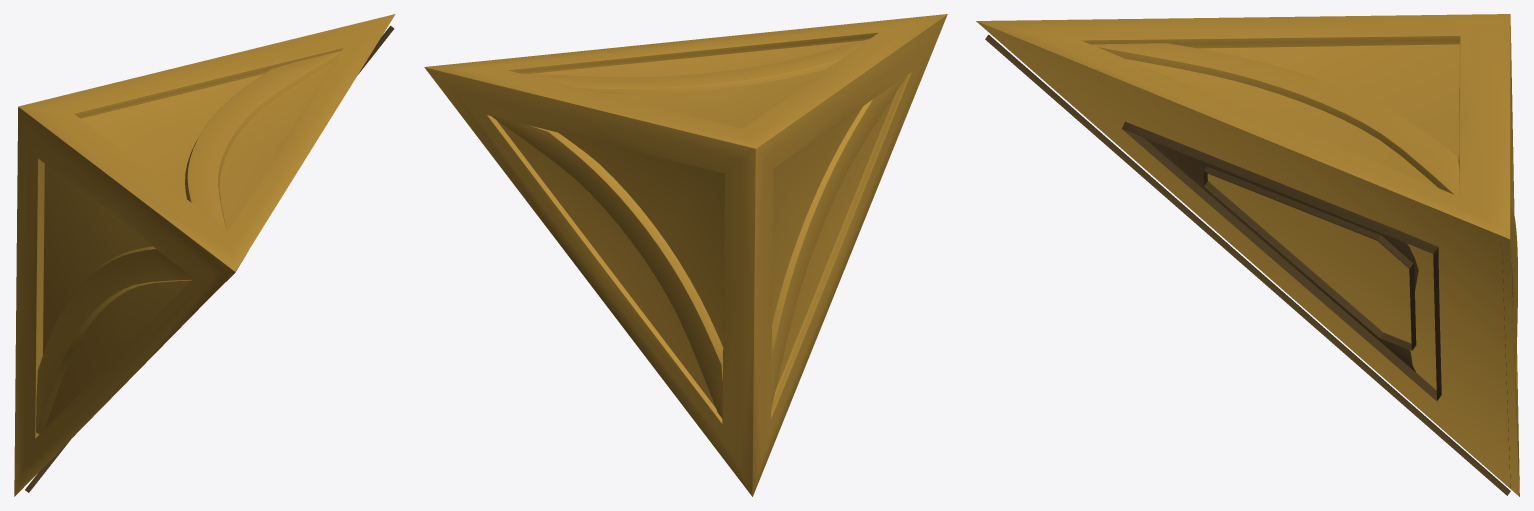
File: Holocron_Esquina_SupIzqTra.obj
3 views of the same model, side by side, from view 1: azimuth 30°, elevation 25°; view 2: azimuth 150°, elevation 25°; view 3: azimuth 270°, elevation 25° (orthographic). The views are drawn at different scales.
Visible parts, largest first — view 1: Holocron_Esquina_SupIzqTra; view 2: Holocron_Esquina_SupIzqTra; view 3: Holocron_Esquina_SupIzqTra.
Boxes of the visible parts, <box> form: Holocron_Esquina_SupIzqTra: <box>14,14,395,496</box>; Holocron_Esquina_SupIzqTra: <box>424,14,947,496</box>; Holocron_Esquina_SupIzqTra: <box>976,14,1519,496</box>.
Size of the model in its own units: 5.14 by 5.13 by 5.22.
